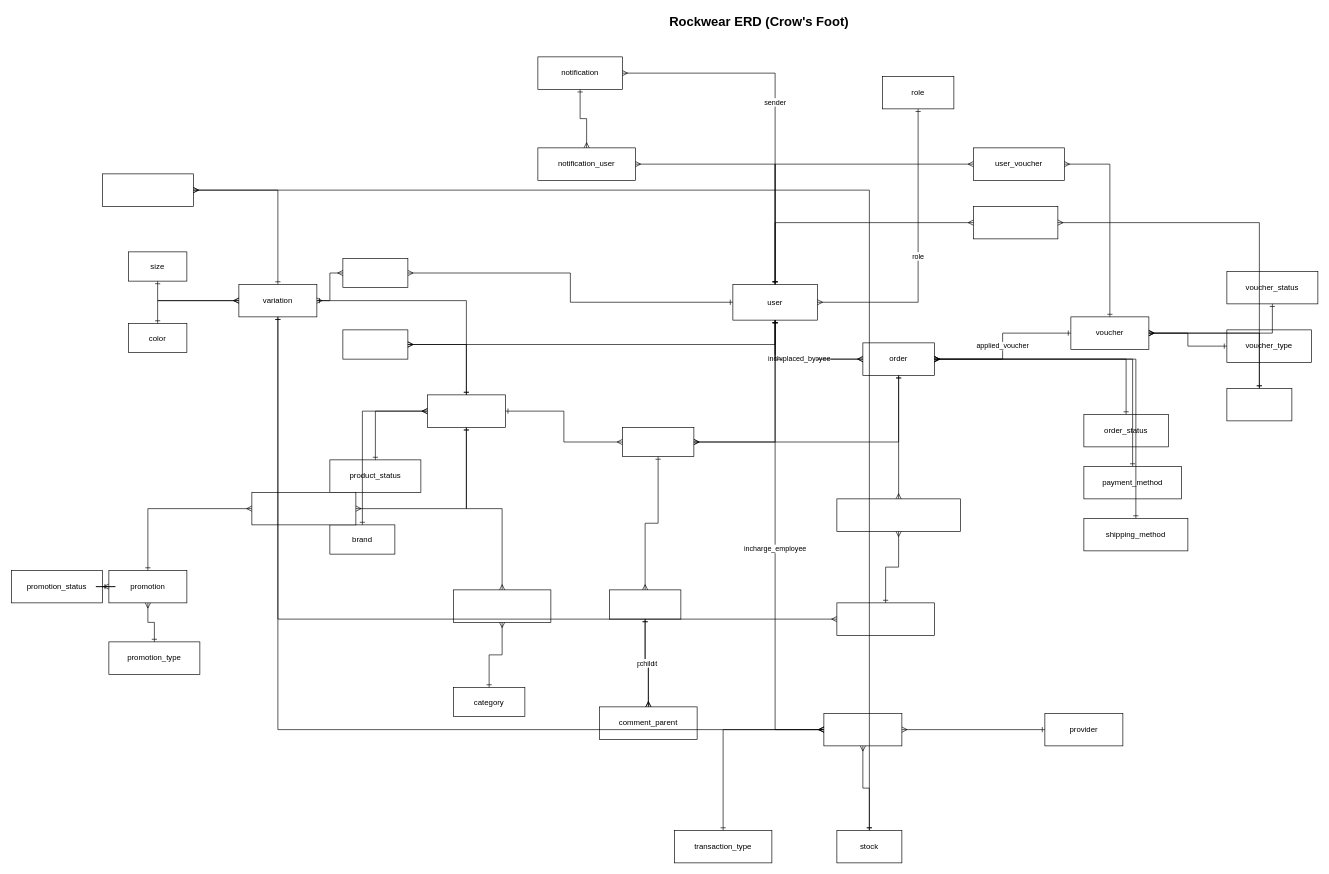
The diagram is 1329 pixels wide and 874 high, and some of its shapes have lost their labels. Each missing label, with the centre of its shape:
cart: [375,273]
comment: [645,604]
order_variation_single: [898,514]
product: [466,410]
product_category: [502,605]
promotion_product: [303,508]
rank: [1259,404]
review: [658,442]
stock_variation: [147,189]
transaction: [862,729]
user_rank: [1015,222]
variation_single: [885,618]
wishlist: [375,344]
